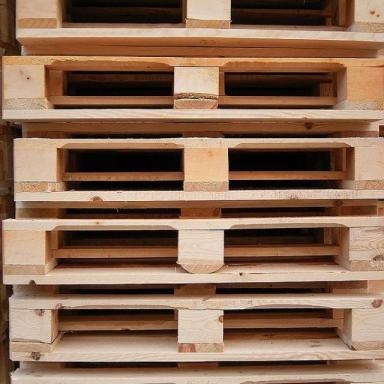pallet: (2, 217, 384, 285), (2, 56, 384, 120), (13, 137, 384, 202), (9, 298, 384, 362), (43, 223, 351, 284), (15, 0, 384, 42), (50, 309, 210, 353), (44, 61, 175, 109), (57, 143, 185, 192), (217, 61, 347, 109), (228, 143, 355, 191), (223, 309, 352, 352)
